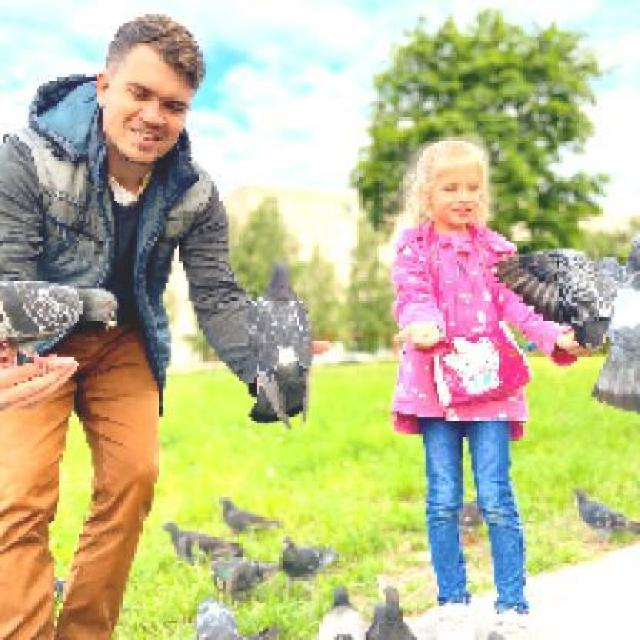child: (386, 137, 603, 637)
